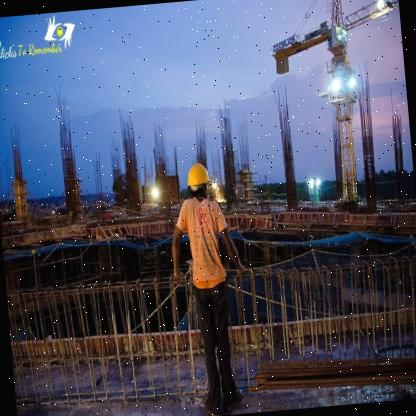capacete: (186, 159, 212, 199)
sem_colete_refletivo: (173, 195, 235, 284)
